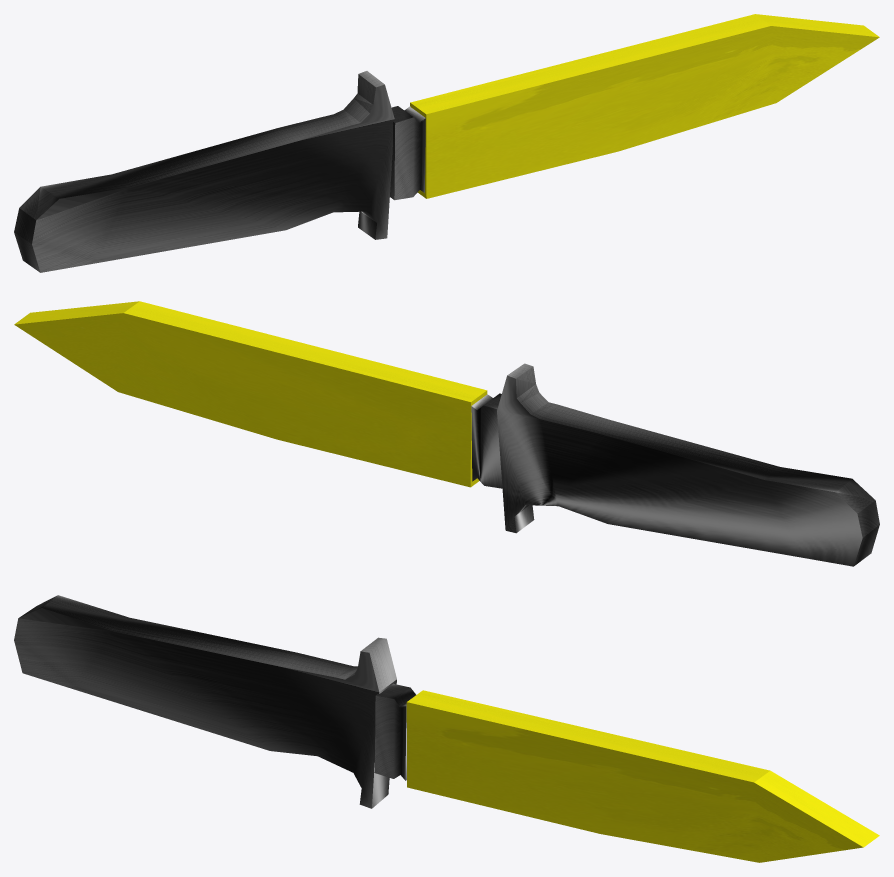
File: Confusions.obj
3 views of the same model, one above another, from view 1: azimuth 30°, elevation 25°; view 2: azimuth 150°, elevation 25°; view 3: azimuth 330°, elevation 25° (orthographic).
Parts seen in each view (by area): view 1: nife_立方体, grip_立方体.002, root_立方体.001; view 2: nife_立方体, grip_立方体.002, root_立方体.001; view 3: nife_立方体, grip_立方体.002, root_立方体.001.
Boxes of the visible parts, x1,y1,x2,y2 form: nife_立方体: [410, 14, 879, 198]; grip_立方体.002: [14, 71, 394, 272]; root_立方体.001: [390, 106, 425, 200]; nife_立方体: [14, 301, 487, 487]; grip_立方体.002: [497, 363, 879, 566]; root_立方体.001: [471, 393, 502, 488]; nife_立方体: [406, 690, 879, 862]; grip_立方体.002: [14, 595, 396, 808]; root_立方体.001: [374, 683, 415, 780].
Bounding box in the file's own units: 6.71 × 1.18 × 0.2711.
Materials: 2 (2 with a texture image).
